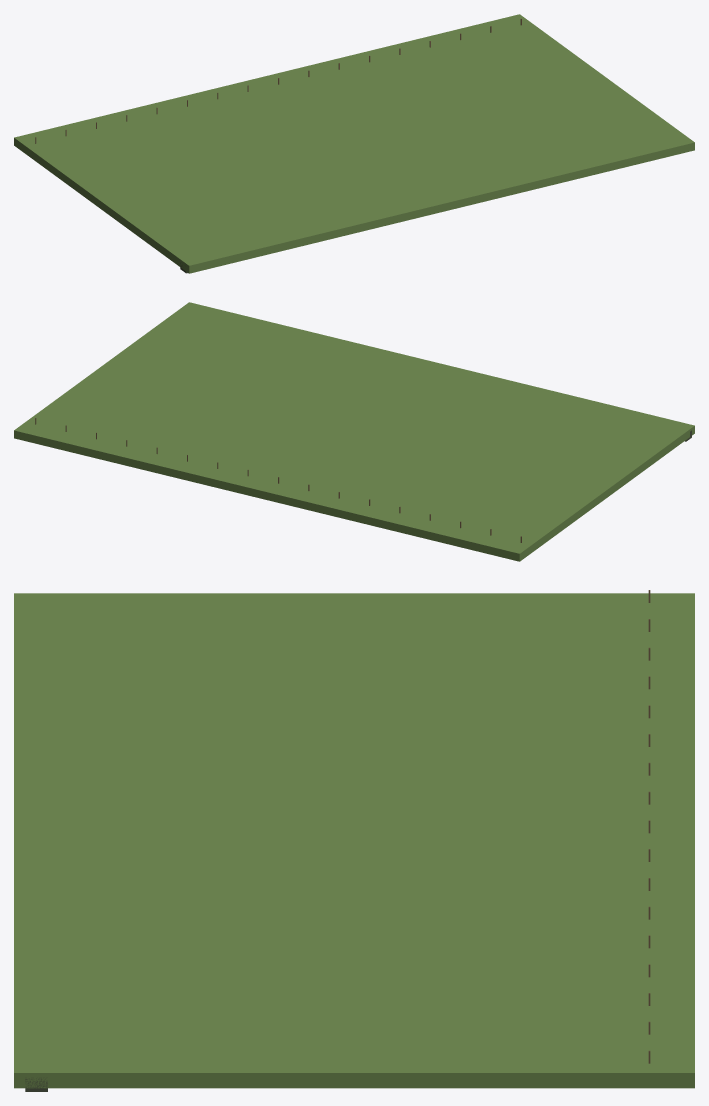
File: f14-polder-flat.glb
3 views of the same model, one above another, from view 1: azimuth 30°, elevation 25°; view 2: azimuth 150°, elevation 25°; view 3: azimuth 270°, elevation 25° (orthographic). The views are drawn at different scales.
Parts seen in each view (by area): view 1: part0; view 2: part0; view 3: part0.
Part boxes in pixels (x1,y1,x2,y2): part0: [14, 14, 694, 273]; part0: [14, 302, 694, 561]; part0: [14, 593, 694, 1088].
Size of the model in its own units: 100000 by 3052 by 60005.
